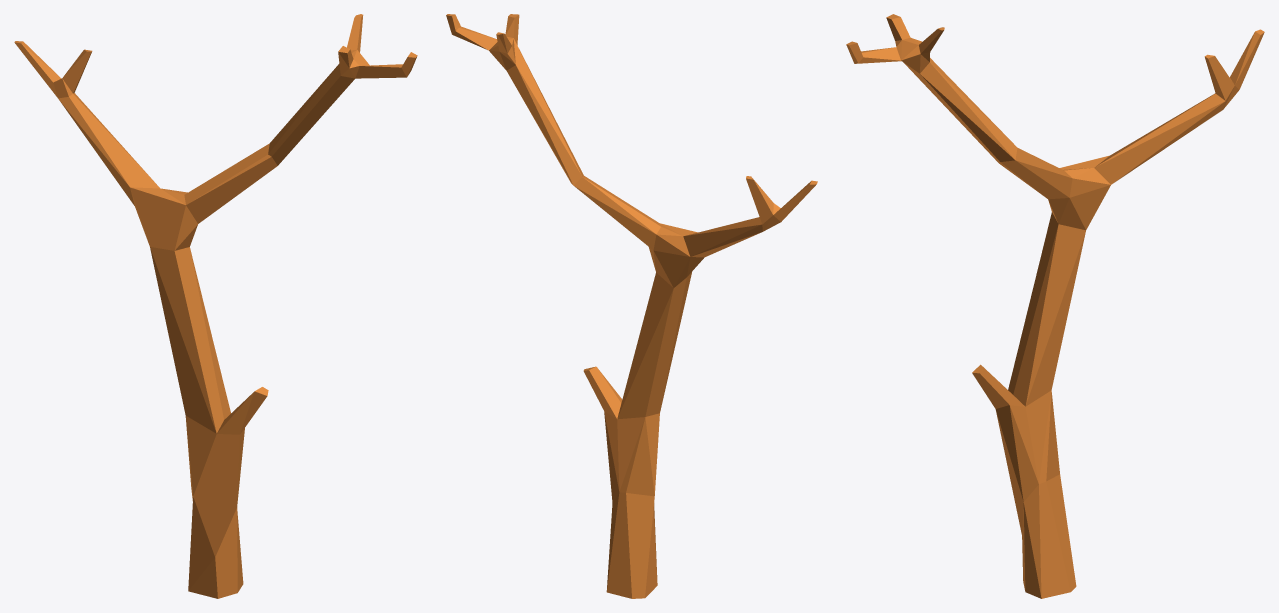
File: testcay2.fbx
The picture shows the model from 3 angles, left to right: view 1: azimuth 30°, elevation 25°; view 2: azimuth 210°, elevation 25°; view 3: azimuth 270°, elevation 25°; orthographic projection. The views are drawn at different scales.
Visible parts, largest first — view 1: Tree_003_LOD0.003; view 2: Tree_003_LOD0.003; view 3: Tree_003_LOD0.003.
Part boxes in pixels (x1=…): Tree_003_LOD0.003: x1=14, y1=14, x2=417, y2=598; Tree_003_LOD0.003: x1=446, y1=14, x2=817, y2=598; Tree_003_LOD0.003: x1=846, y1=14, x2=1264, y2=598.
Bounding box in the file's own units: 30.33 × 83.7 × 52.54.
